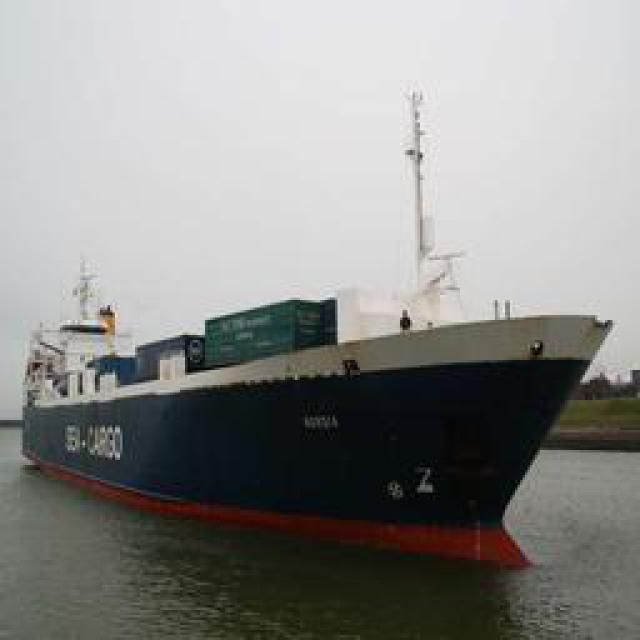Ship: (31, 287, 606, 555)
